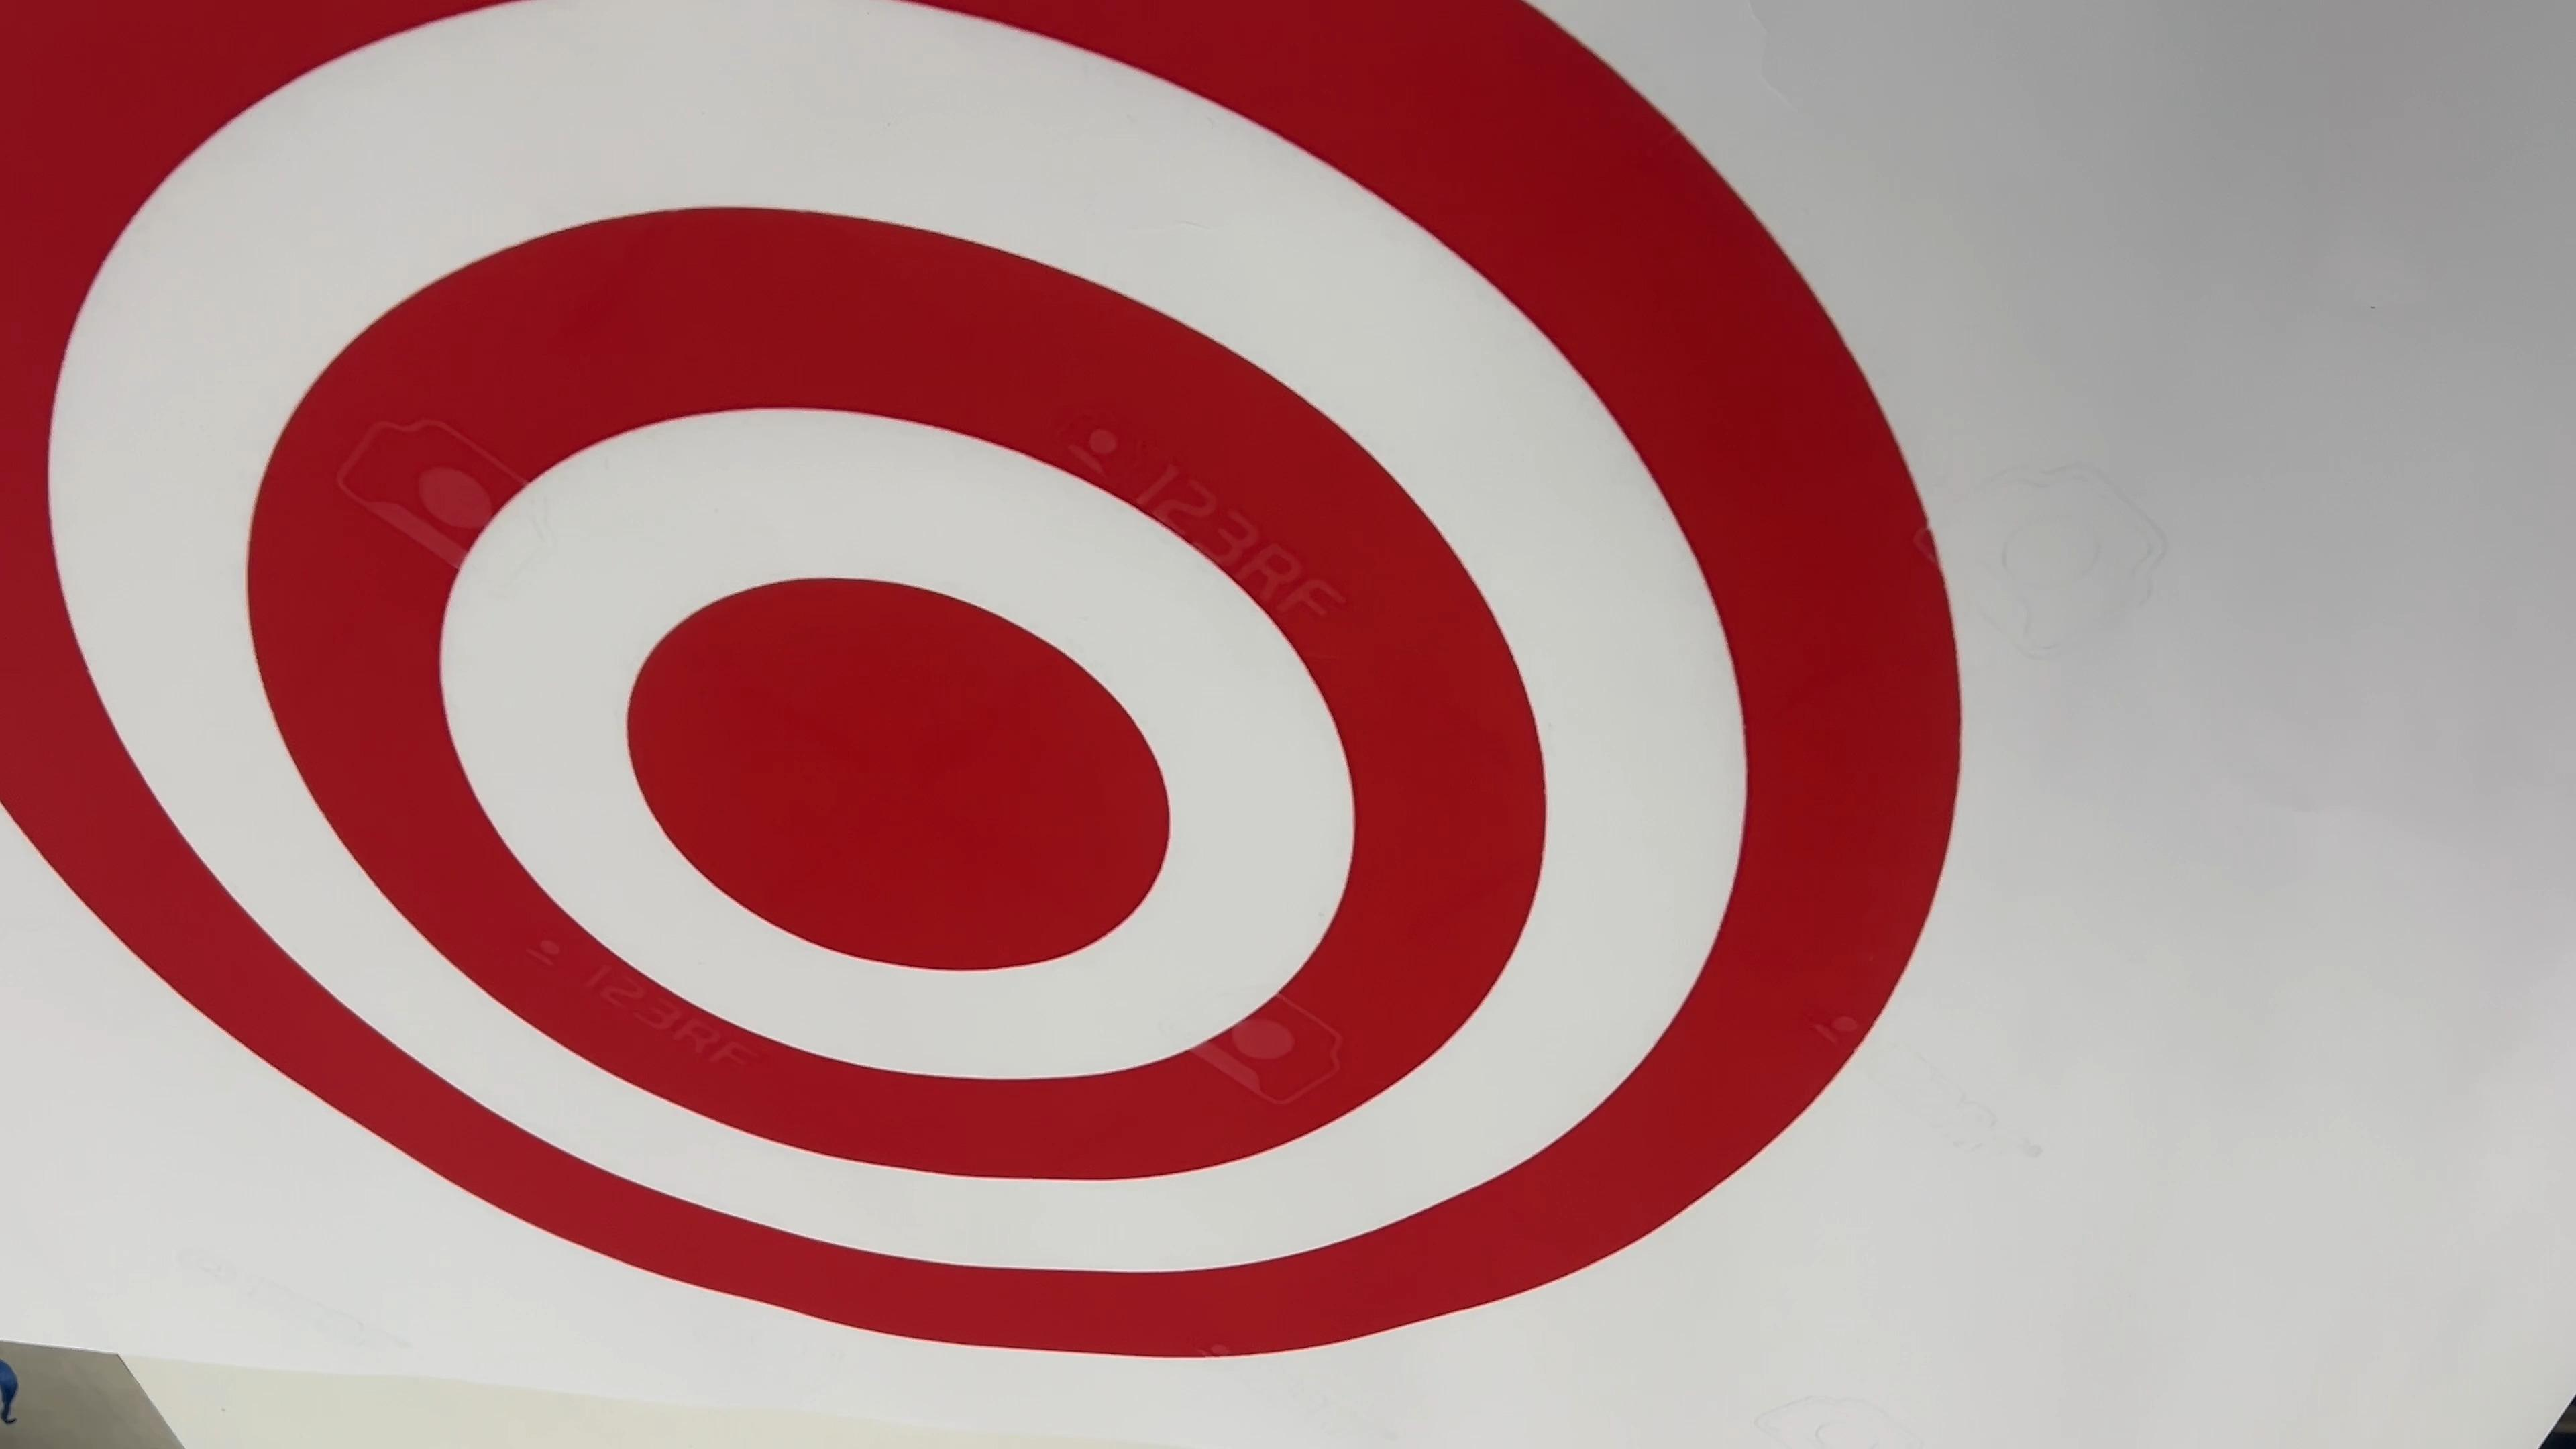target_red: (0, 0, 2013, 1410)
